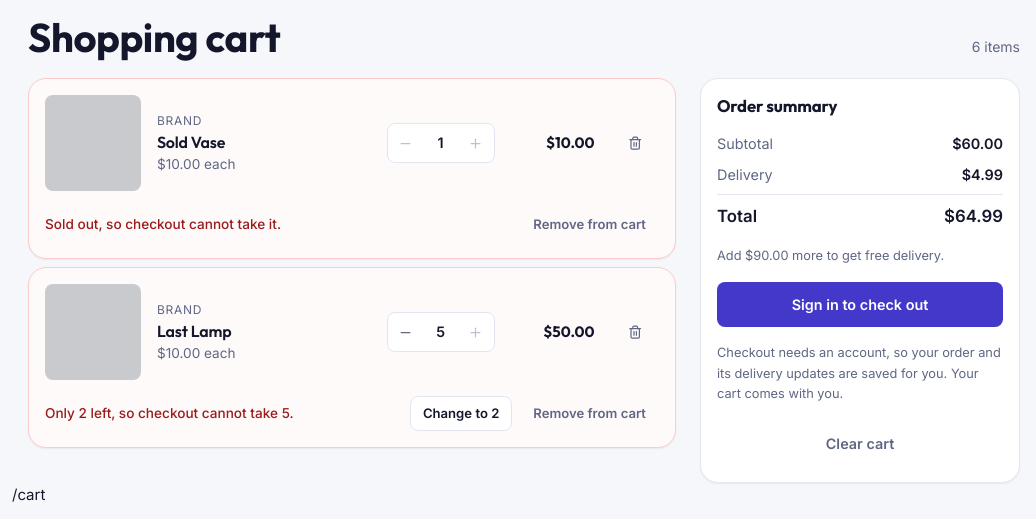
Test: Cart › flags a line the stock no longer covers before checkout does
Later steps or results of the test are not shown.
Expected: the text "Sold out, so checkout cannot take it." is shown, left=45, top=216, right=281, bottom=232
Expected: the text "Only 2 left, so checkout cannot take 5." is shown, left=45, top=405, right=294, bottom=421
Click the button named "Change to 2 for Last Lamp".
click(461, 414)  # box left=410, top=396, right=512, bottom=431
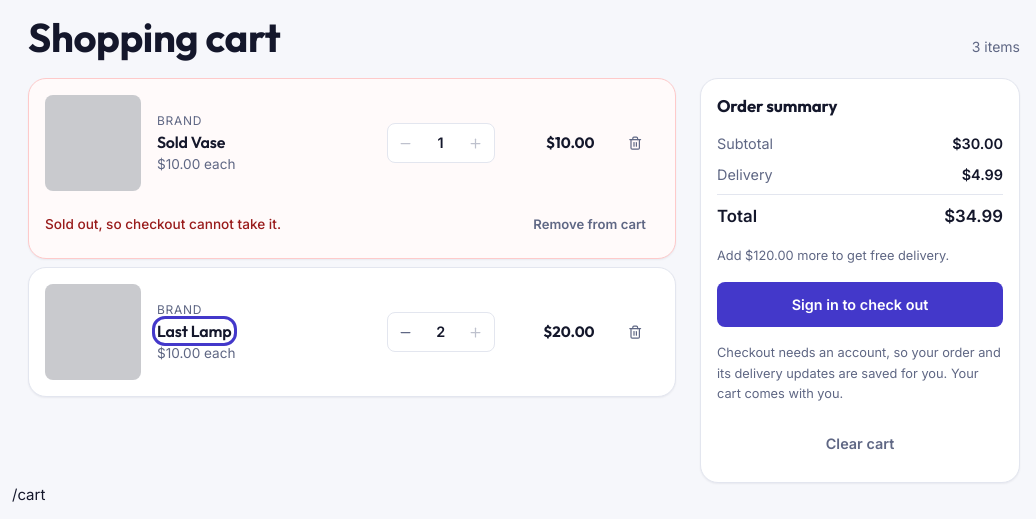
Result: the text "Only 2 left" is gone
